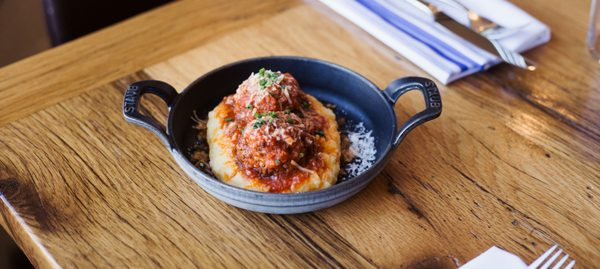sandwich: (415, 0, 551, 68)
sushi: (141, 55, 443, 217)
